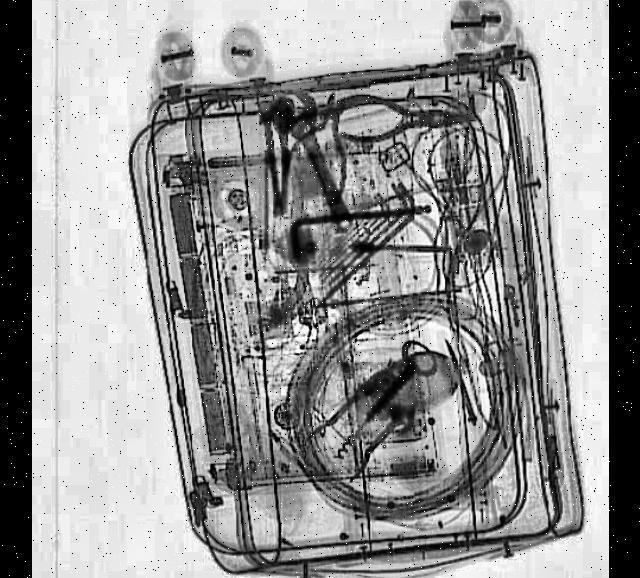Pliers: (278, 85, 360, 211), (335, 95, 473, 146)
